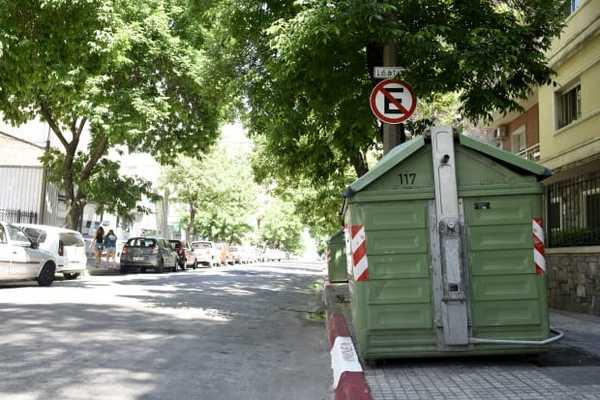Trash: (339, 127, 562, 361), (324, 231, 347, 282)
